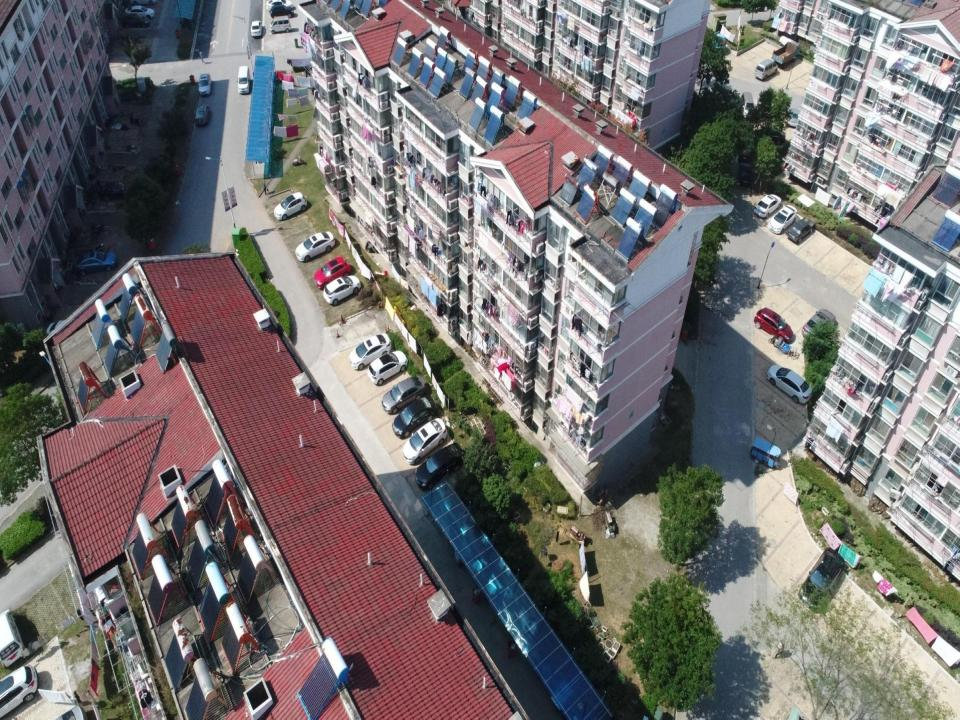car: (798, 547, 846, 612), (415, 442, 468, 490), (401, 417, 450, 465), (382, 374, 432, 415), (392, 397, 439, 439), (766, 365, 813, 404), (349, 332, 395, 370), (754, 307, 796, 344), (367, 351, 411, 386), (801, 308, 839, 341), (294, 231, 334, 262), (314, 256, 350, 290), (323, 274, 361, 306), (73, 251, 117, 275), (273, 191, 306, 220), (768, 205, 800, 234), (786, 214, 816, 243), (754, 193, 781, 219), (97, 182, 131, 200), (755, 127, 786, 146), (120, 12, 150, 28), (739, 154, 753, 186), (46, 320, 74, 335), (126, 6, 156, 19), (195, 103, 209, 127), (198, 74, 212, 98), (270, 4, 294, 17), (266, 0, 294, 11), (785, 108, 799, 128), (251, 21, 262, 37)
truck: (771, 41, 798, 69)
van: (0, 665, 38, 718), (0, 609, 26, 668), (754, 59, 778, 81), (270, 15, 294, 34), (738, 92, 754, 120), (237, 66, 250, 93)
